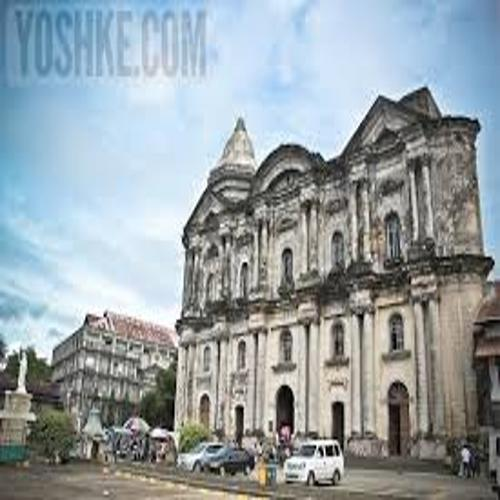Taal Basilica Church: (168, 85, 495, 486)
